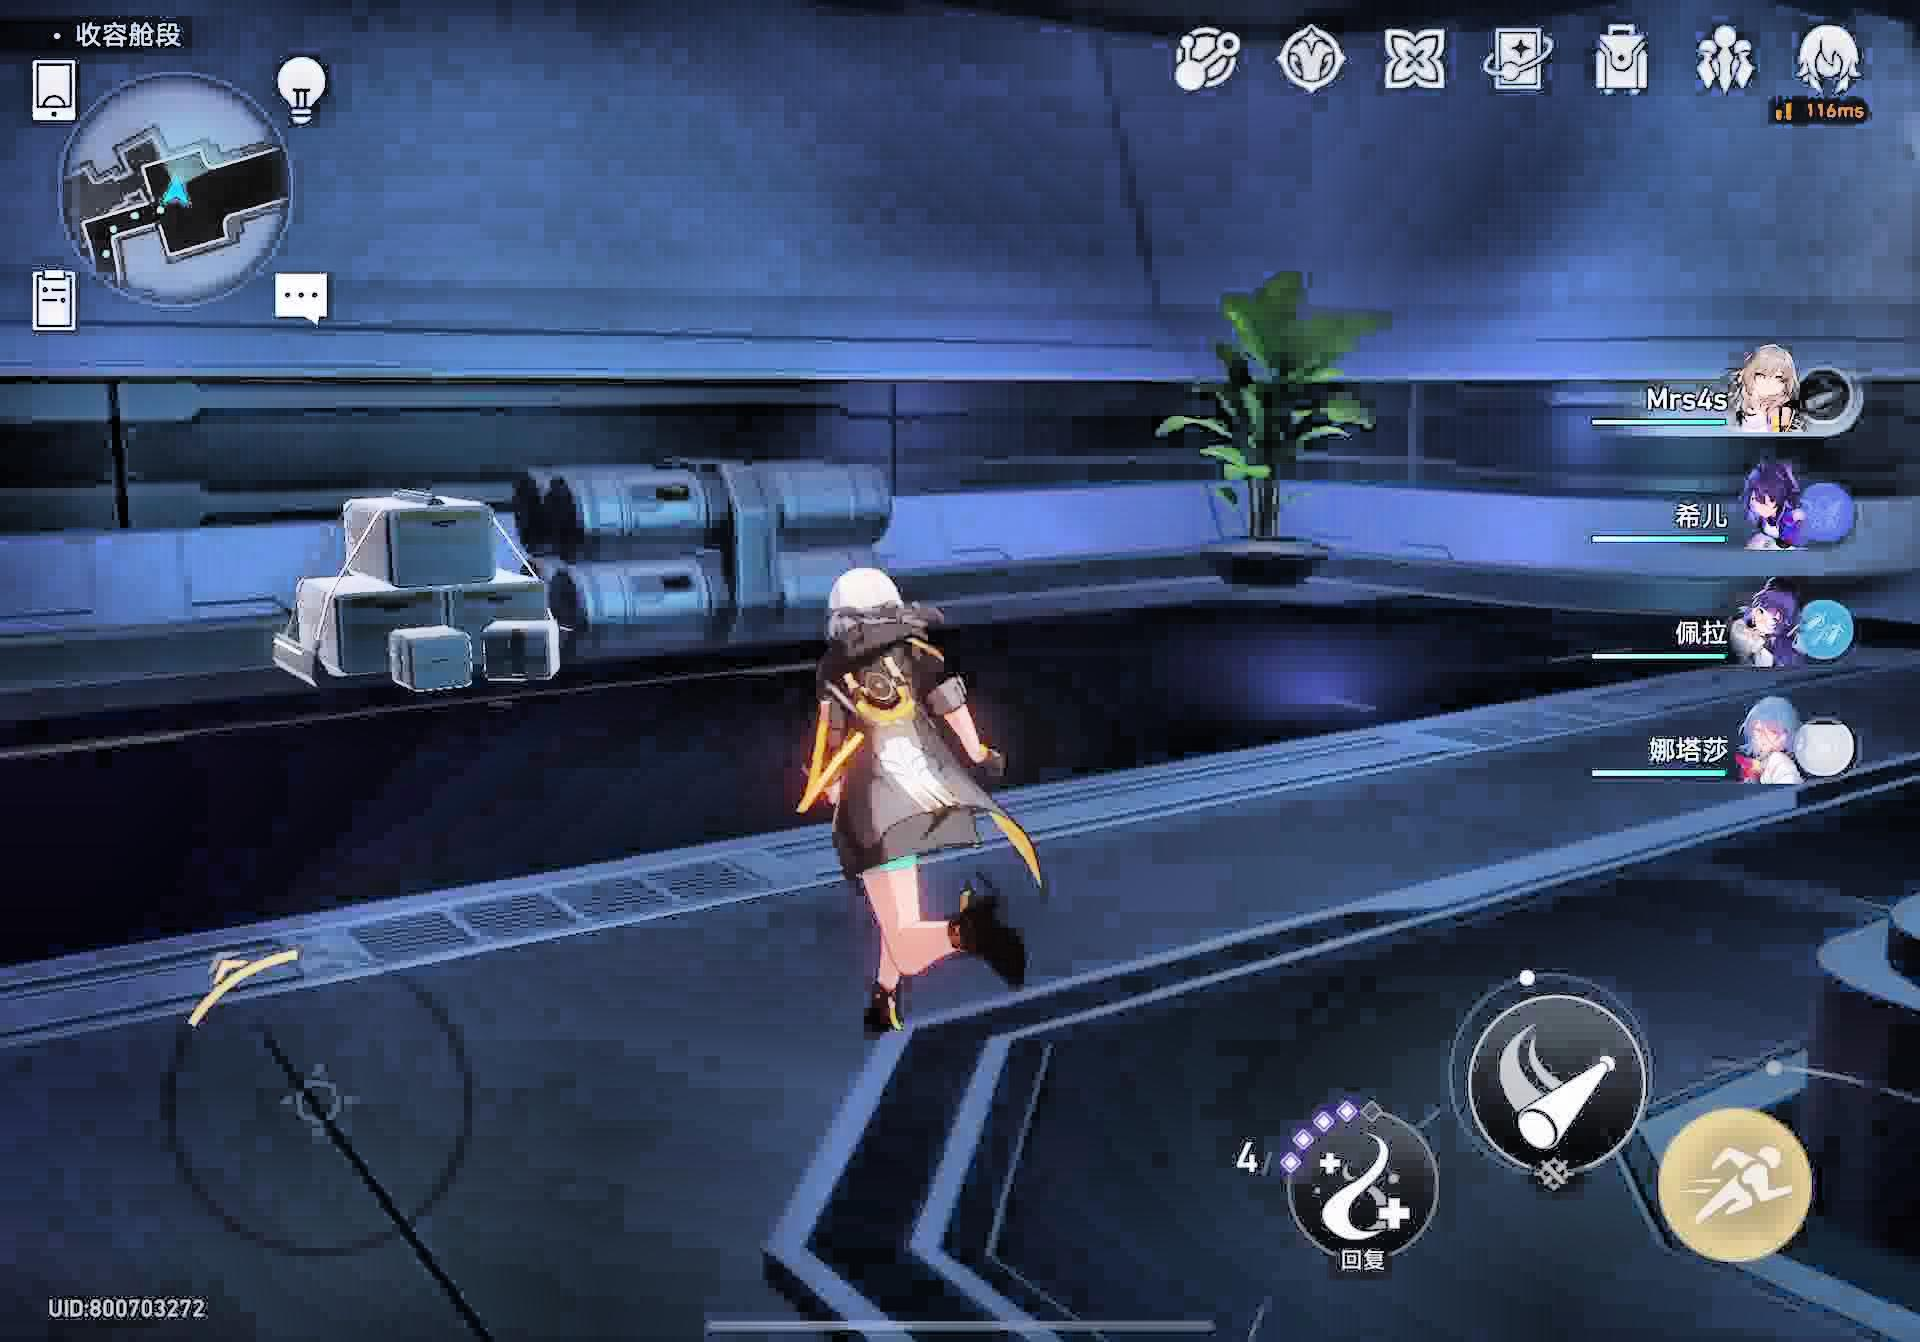Box: (258, 489, 563, 703)
Self: (800, 560, 1042, 1050)
